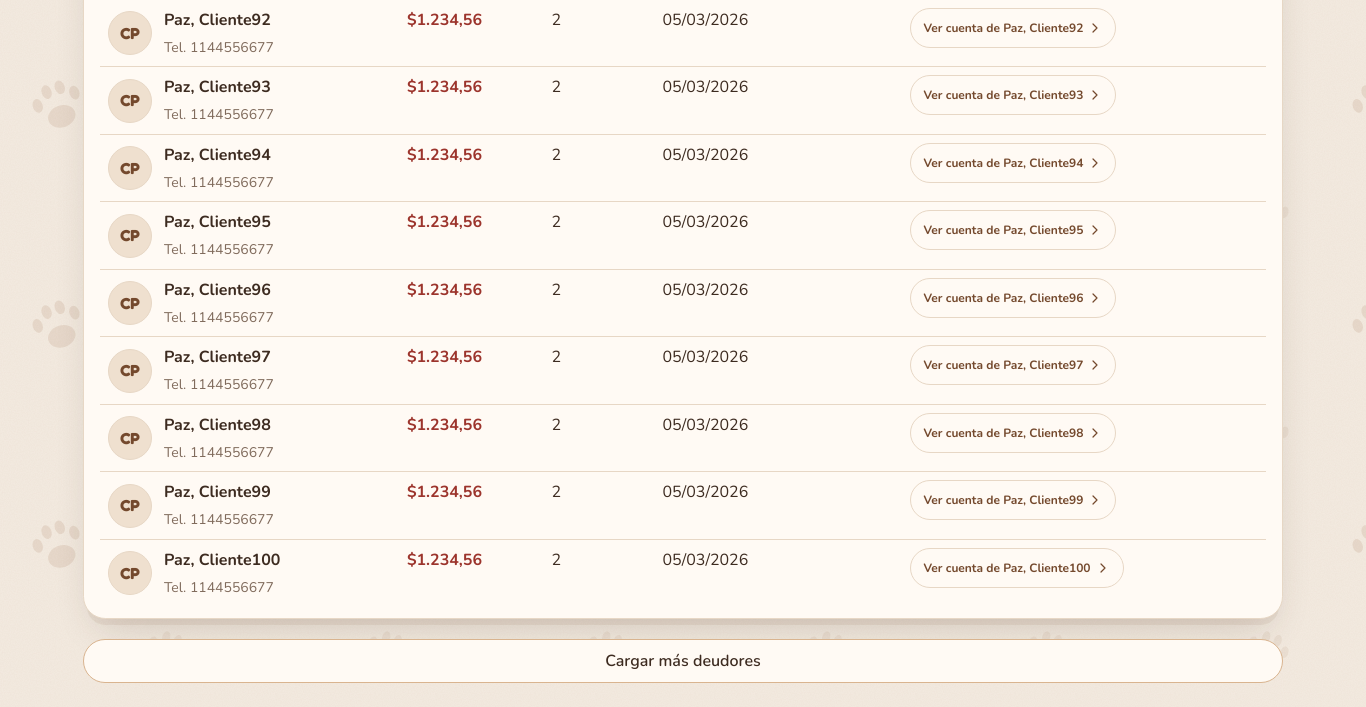
Test: Deudores › permite reintentar la carga de la siguiente página
The width and height of the screenshot is (1366, 707).
(page scrolled)
Click the button "Cargar más deudores" at point(683, 661), box [83, 639, 1283, 683]
(page scrolled)
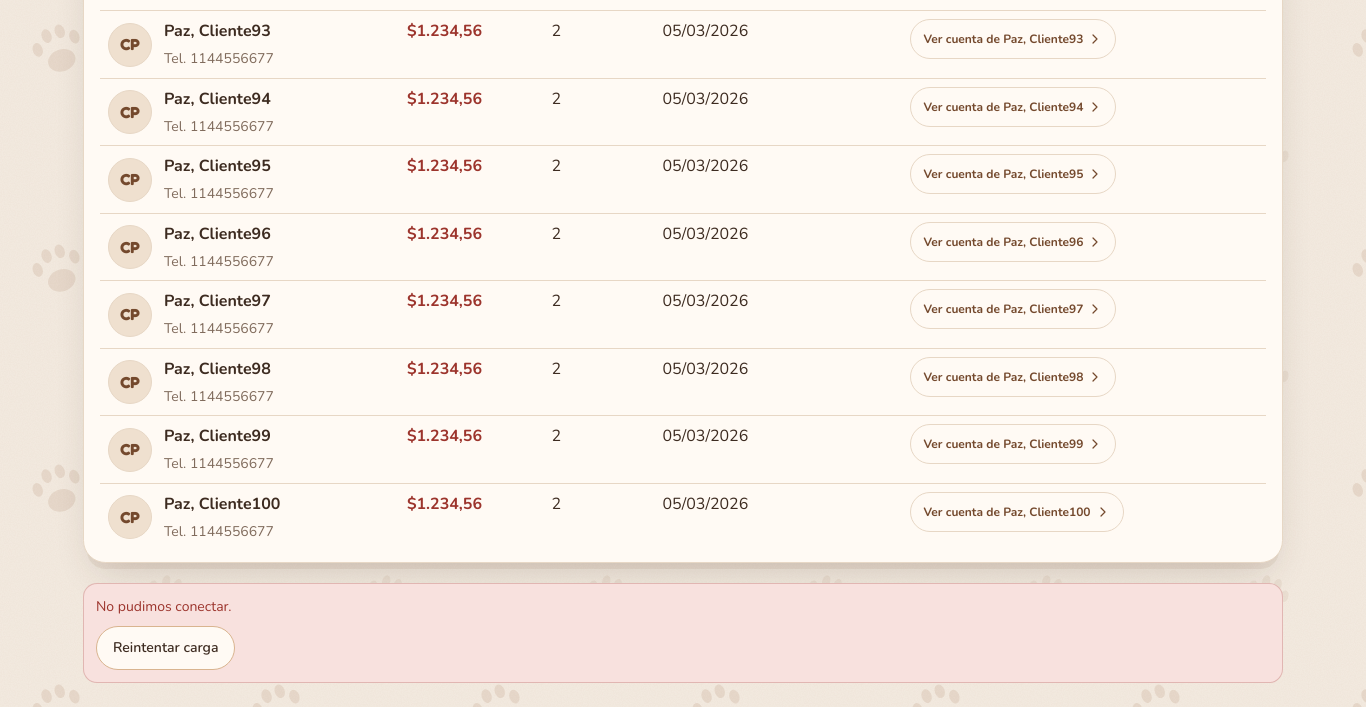
Result: the message shows "No pudimos conectar." at [96, 597, 232, 616]
Click the button "Reintentar carga" at point(166, 648), box [96, 626, 236, 670]
(page scrolled)
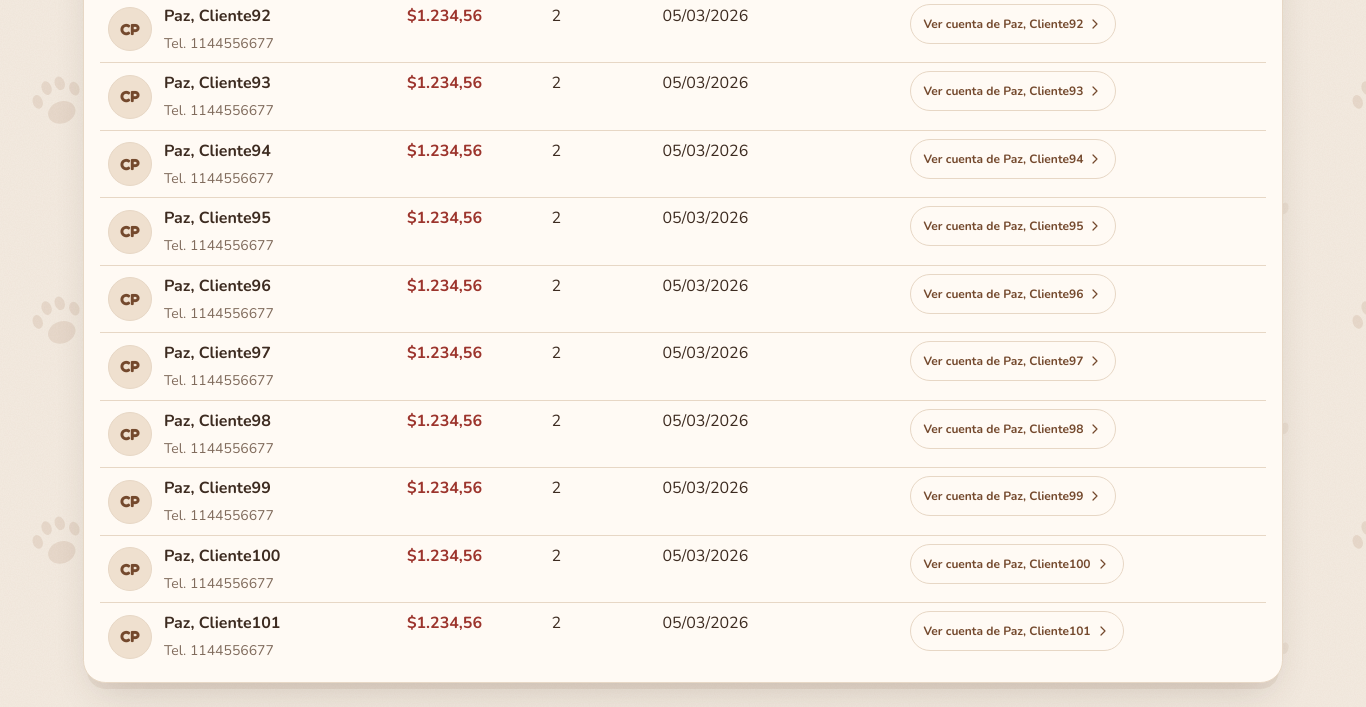
Result: the text "Paz, Cliente101" is shown at [164, 611, 280, 636]
